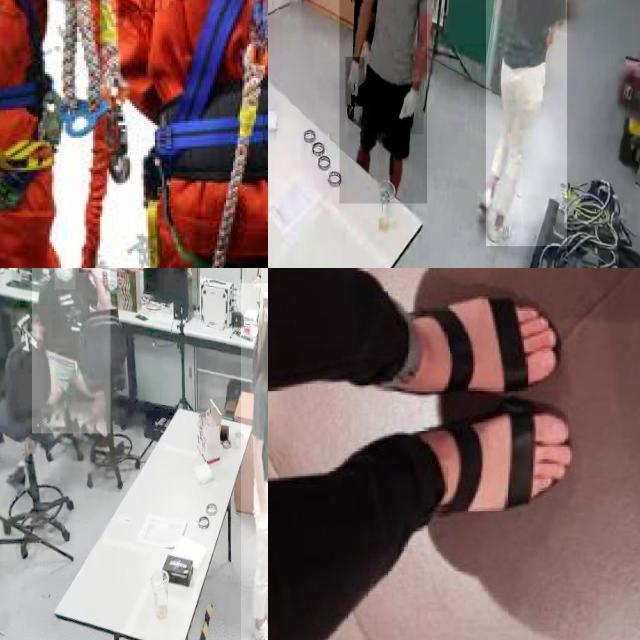Sandals: (354, 292, 564, 396), (397, 412, 574, 516)
face_mask: (54, 268, 75, 290)
hand_glove: (399, 82, 424, 135), (345, 57, 365, 107), (255, 503, 268, 552)
hand_noglove: (79, 268, 94, 273)
person: (486, 0, 567, 247), (339, 0, 427, 204), (32, 268, 111, 434), (241, 283, 268, 640)
shoes: (486, 206, 513, 249), (250, 609, 268, 640)
